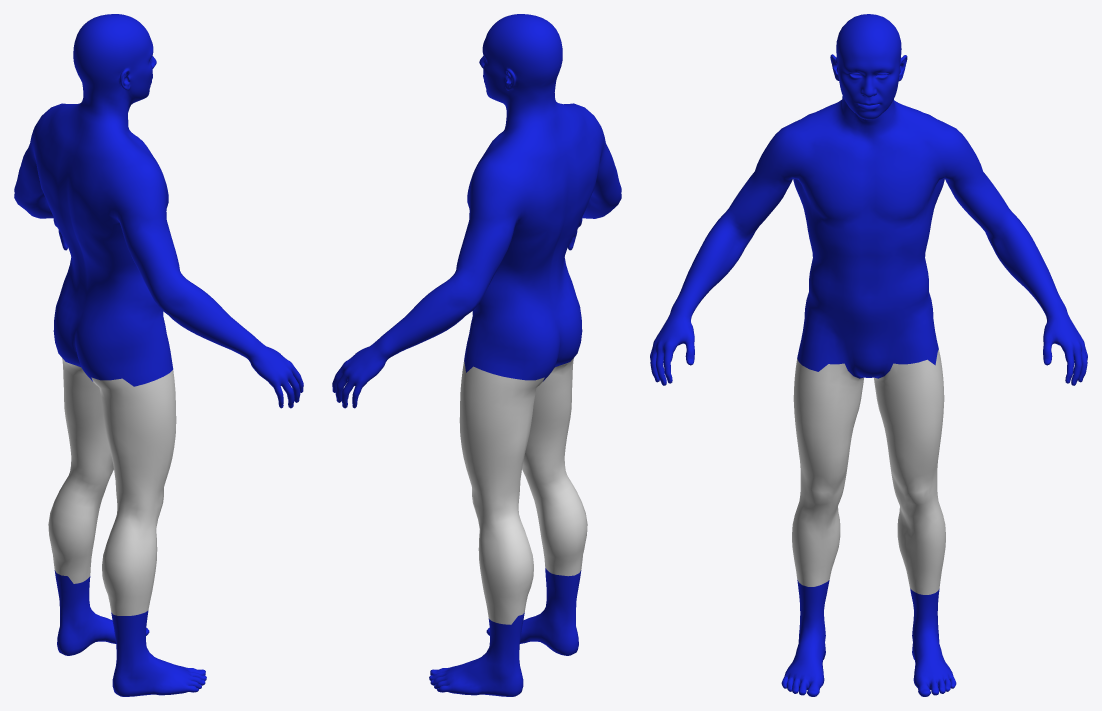
3 views of the same model, side by side, from view 1: azimuth 30°, elevation 25°; view 2: azimuth 150°, elevation 25°; view 3: azimuth 270°, elevation 25° (orthographic).
Visible parts, largest first — view 1: m_tal_nrw_body_preview.002; view 2: m_tal_nrw_body_preview.002; view 3: m_tal_nrw_body_preview.002.
Part boxes in pixels (bbox=[...]): m_tal_nrw_body_preview.002: bbox=[14, 14, 303, 696]; m_tal_nrw_body_preview.002: bbox=[332, 14, 621, 696]; m_tal_nrw_body_preview.002: bbox=[650, 14, 1087, 696].
Bounding box in the file's own units: 0.4077 × 1.81 × 1.11.
